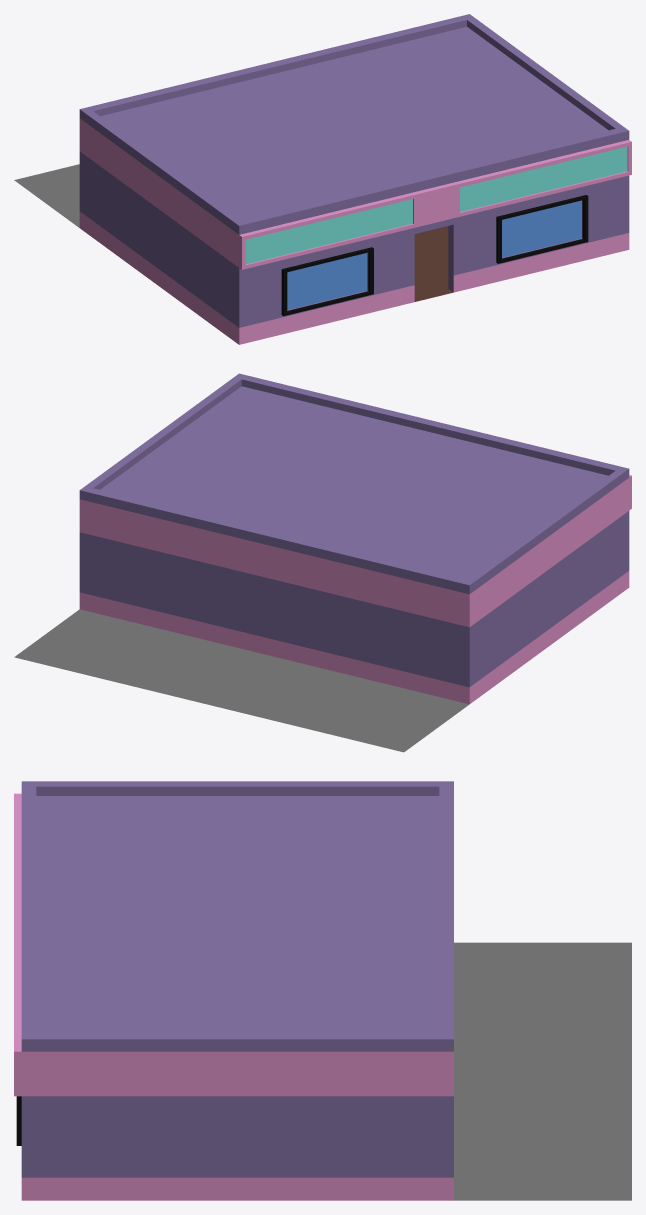
The model's file is Building2.fbx.
3 renders of one model, top to bottom at view 1: azimuth 30°, elevation 25°; view 2: azimuth 150°, elevation 25°; view 3: azimuth 270°, elevation 25°, orthographic. The views are drawn at different scales.
Parts seen in each view (by area): view 1: Building2, Building2Roof; view 2: Building2, Building2Roof; view 3: Building2, Building2Roof.
Part boxes in pixels (x1,y1,x2,y2): Building2: (14, 14, 631, 344); Building2Roof: (100, 27, 608, 219); Building2: (14, 373, 631, 752); Building2Roof: (100, 386, 608, 579); Building2: (14, 781, 631, 1200); Building2Roof: (36, 796, 439, 1033).
Bounding box in the file's own units: 1200 × 350 × 1215.
